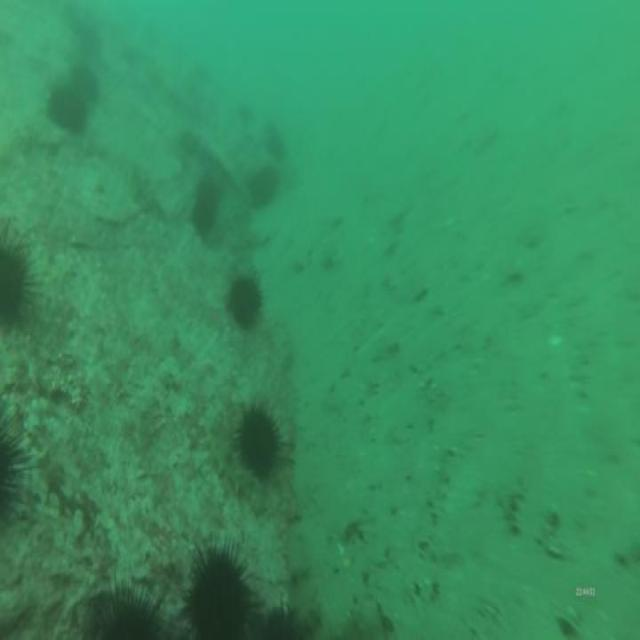echinus: (181, 532, 256, 640), (0, 217, 44, 349), (82, 580, 178, 640), (233, 396, 291, 486), (0, 400, 31, 539), (222, 270, 265, 335), (44, 82, 92, 139), (253, 603, 314, 640), (188, 174, 220, 240), (64, 55, 104, 106), (247, 161, 281, 217), (262, 131, 287, 171)
holothurian: (200, 425, 261, 512)
